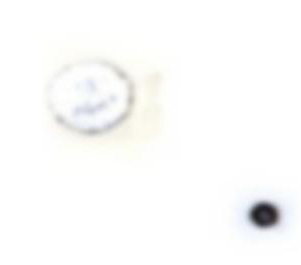abnormal: (23, 36, 164, 163)
cancer: (232, 183, 297, 240)
